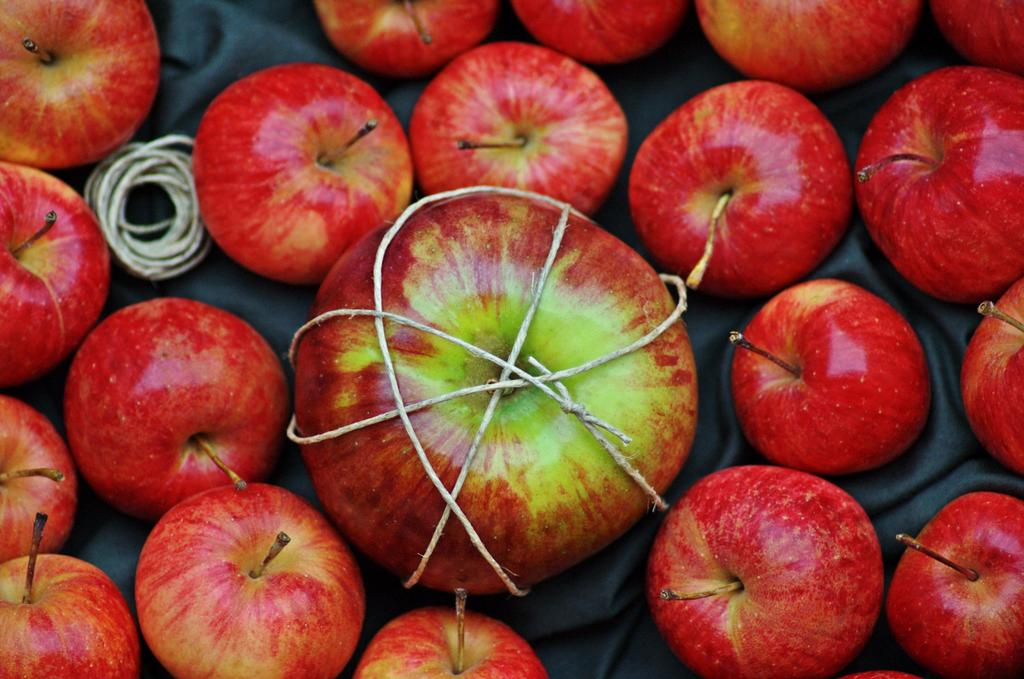Apple: (0, 0, 1023, 678), (646, 461, 885, 678)
